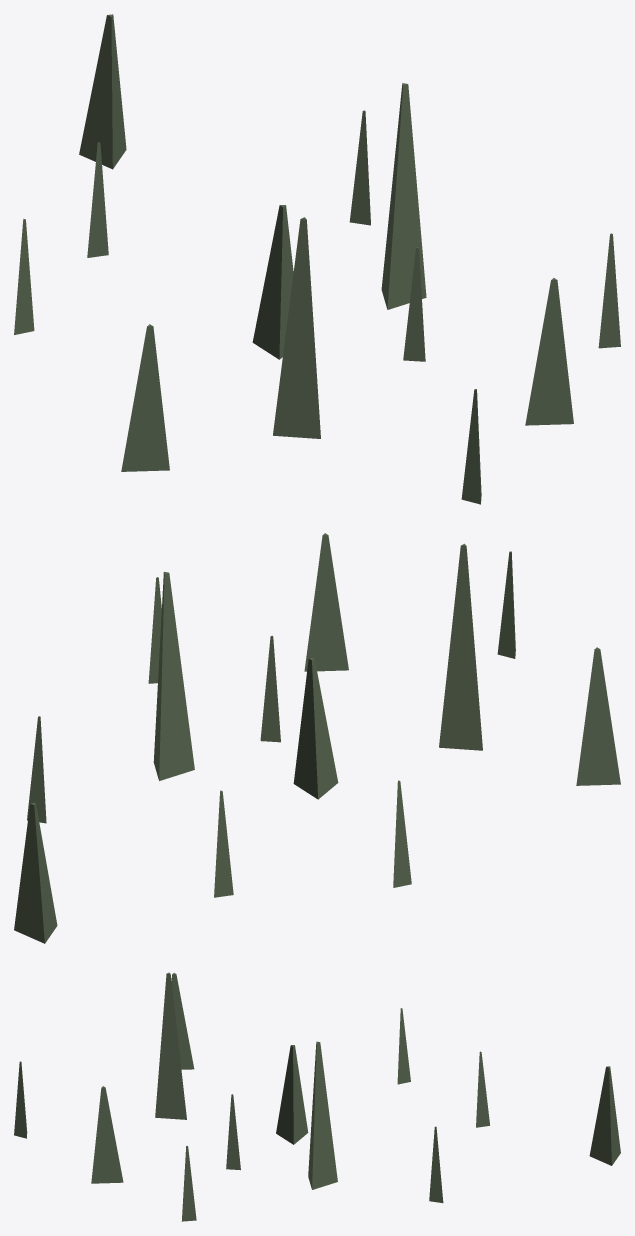
Rendered from Grass.fbx.
3 renders of one model, top to bottom at view 1: azimuth 30°, elevation 25°; view 2: azimuth 150°, elevation 25°; view 3: azimuth 270°, elevation 25°, orthographic. The views are drawn at different scales.
Parts seen in each view (by area): view 1: Grass; view 2: Grass; view 3: Grass.
Boxes of the visible parts, <box> form: Grass: <box>14,14,620,504</box>; Grass: <box>14,533,620,943</box>; Grass: <box>14,972,620,1221</box>.
Size of the model in its own units: 18.95 by 7.73 by 29.84.
